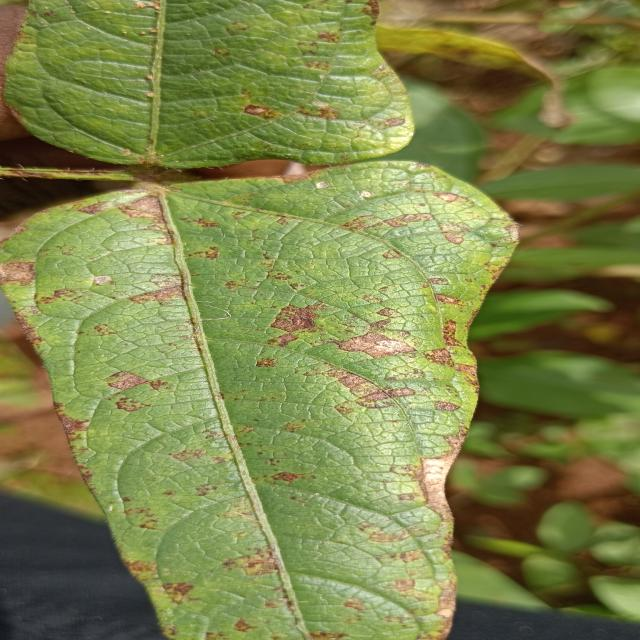Black gram_leaf spot: (14, 161, 509, 640), (7, 1, 418, 168)
